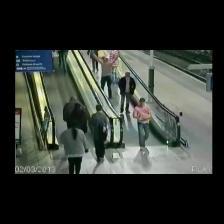person: (60, 122, 88, 173), (93, 54, 118, 98), (91, 105, 108, 162), (133, 98, 151, 150), (119, 72, 135, 113), (63, 96, 78, 128), (72, 103, 87, 133), (88, 50, 98, 72), (58, 50, 68, 72), (112, 60, 118, 84)
